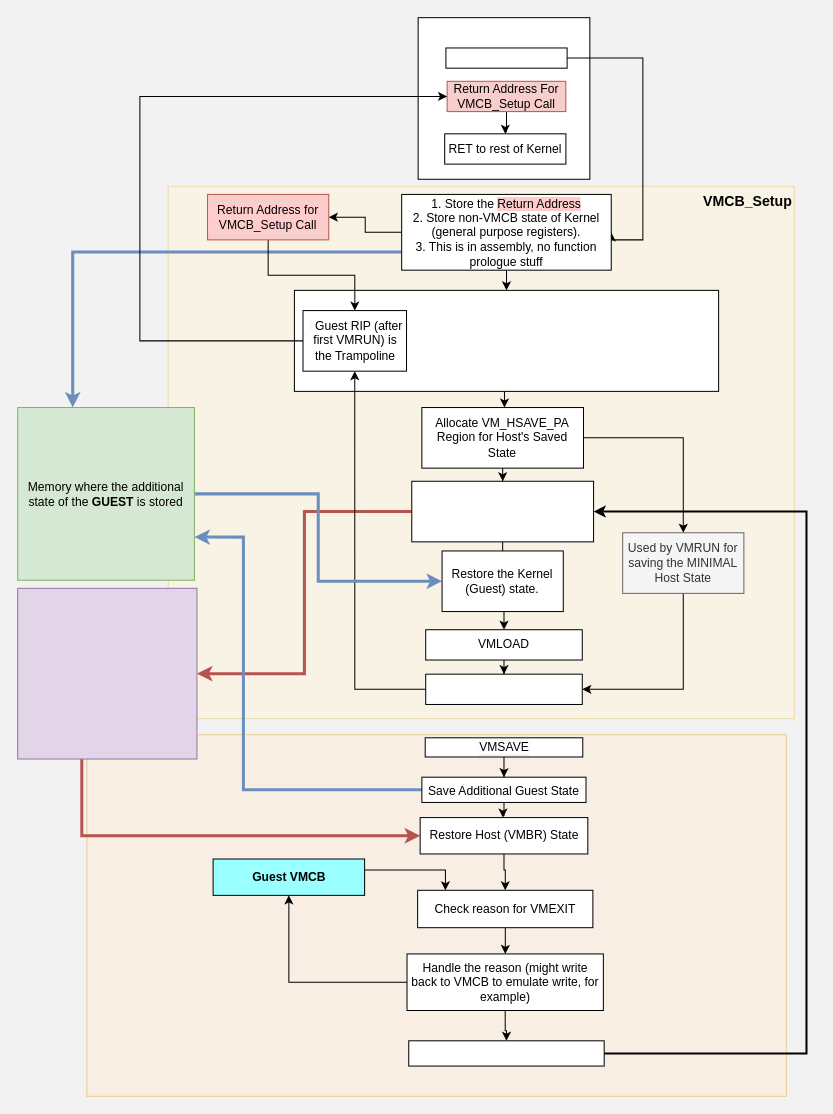
Some shapes in this 833 by 1114 pixel diagram are drawn without their labels. The shapes that lost their labels are listed below. From the top down, each one's box as (x1, y1, x2, y2) in pixels, then its label:
(445, 47, 567, 68): Call VMCB_Setup
(417, 17, 590, 179): CoVirt Kernel Module Init
(293, 289, 719, 391): Initial Configuration of VMCB
(411, 480, 594, 542): Save the Host's non-VMCB state (gen-purpose registers)
(17, 587, 197, 759): Memory where the additional state of the HOST is stored.
(425, 673, 582, 704): VMRUN
(86, 734, 786, 1096): #VMEXIT EVENT
(408, 1040, 604, 1066): Jump
